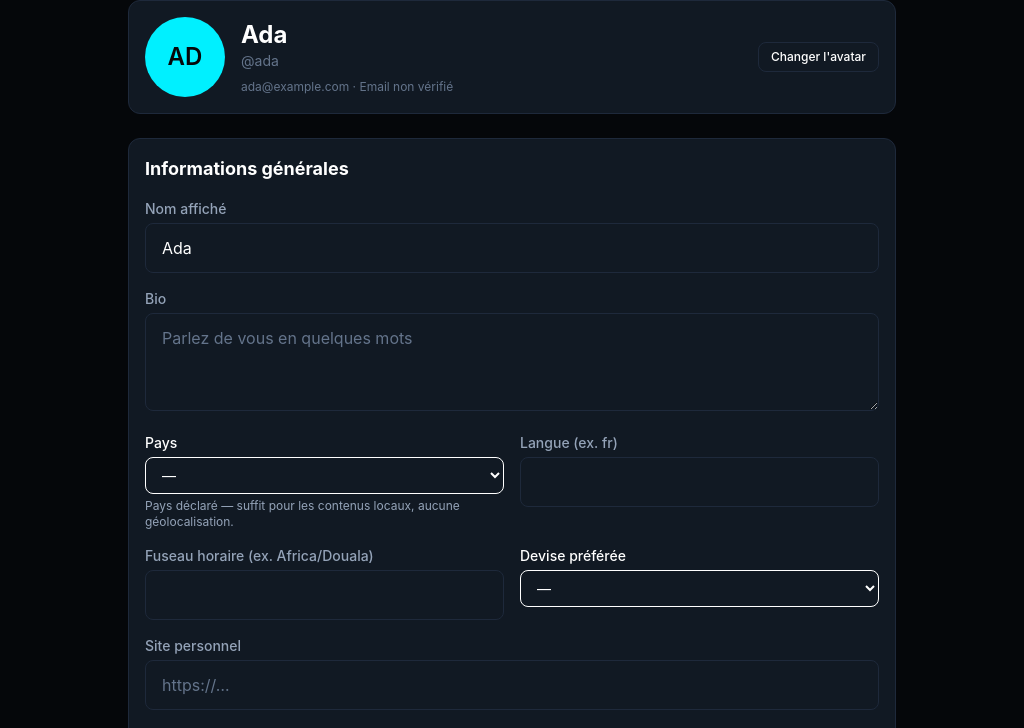
Test case: Profile › erreur API → message compréhensible, pas de pile
The image size is (1024, 728).
Expected: the heading "Ada" is shown, [241, 20, 287, 49]
Replace the text in the field labelled "Nom affiché" with "Autre Nom" at (512, 248), box [145, 223, 879, 273]
(page scrolled)
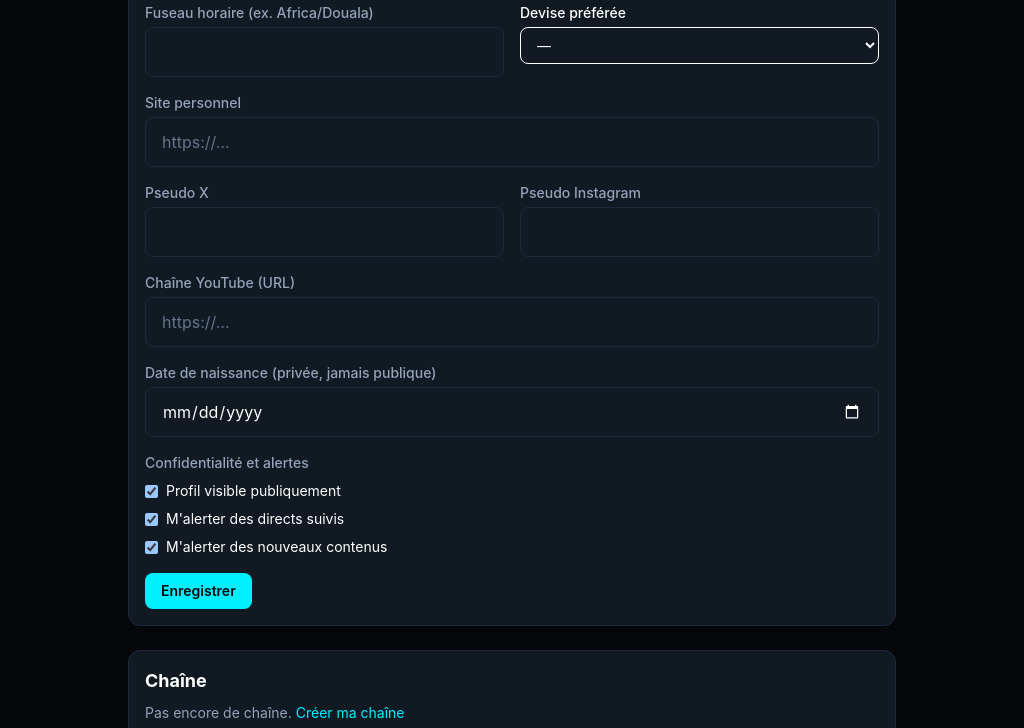
Click the button "Enregistrer".
click(198, 591)  # box [145, 573, 252, 609]
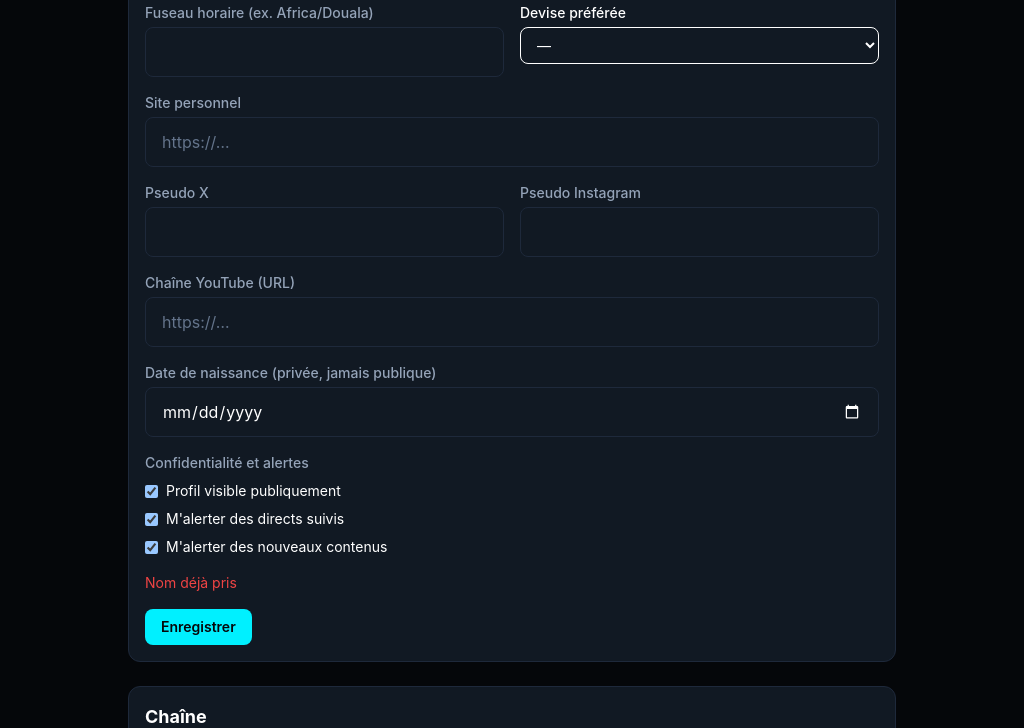
Expected: the message reads "Nom déjà pris", [145, 574, 237, 591]
